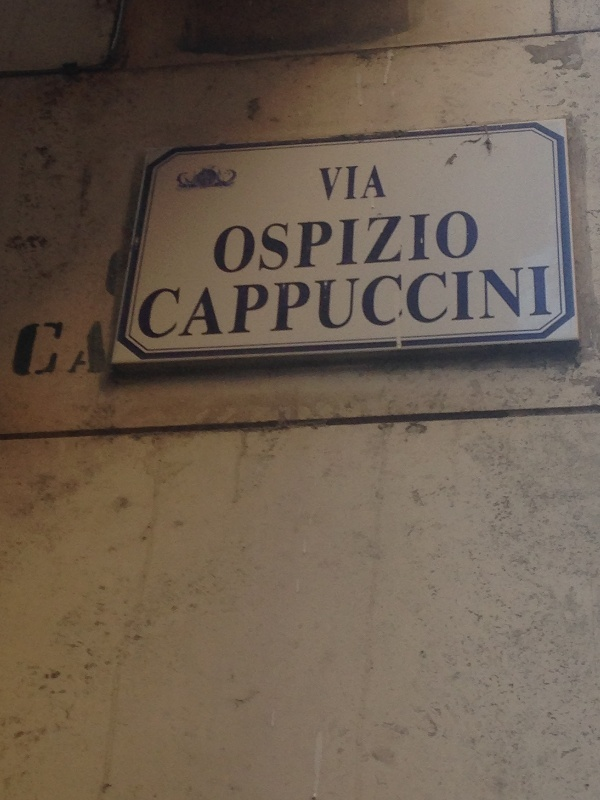text: (145, 263, 160, 344), (161, 263, 176, 344), (177, 263, 192, 344), (193, 263, 208, 344), (209, 263, 224, 344), (225, 263, 240, 344), (241, 263, 256, 344), (257, 263, 272, 344), (273, 263, 288, 344), (289, 263, 304, 344), (305, 263, 320, 344), (321, 263, 336, 344), (337, 263, 352, 344), (353, 263, 368, 344), (369, 263, 384, 344), (385, 263, 400, 344), (401, 263, 416, 344), (417, 263, 432, 344), (433, 263, 448, 344), (449, 263, 464, 344), (465, 263, 480, 344), (481, 263, 496, 344), (497, 263, 512, 344), (513, 263, 528, 344), (529, 263, 544, 344), (225, 207, 240, 278), (241, 207, 256, 278), (257, 207, 272, 278), (273, 207, 288, 278), (289, 207, 304, 278), (305, 207, 320, 278), (321, 207, 336, 278), (337, 207, 352, 278), (353, 207, 368, 278), (369, 207, 384, 278), (385, 207, 400, 278), (401, 207, 416, 278), (417, 207, 432, 278), (433, 207, 448, 278), (449, 207, 464, 278), (465, 207, 480, 278), (17, 319, 32, 383), (33, 319, 48, 383), (49, 319, 64, 383), (65, 319, 80, 383), (81, 319, 96, 383), (97, 319, 112, 383), (545, 263, 554, 344), (215, 207, 224, 278), (321, 164, 336, 205), (337, 164, 352, 205), (353, 164, 368, 205), (369, 164, 384, 205), (139, 263, 144, 344), (385, 164, 388, 205), (319, 164, 320, 205)
